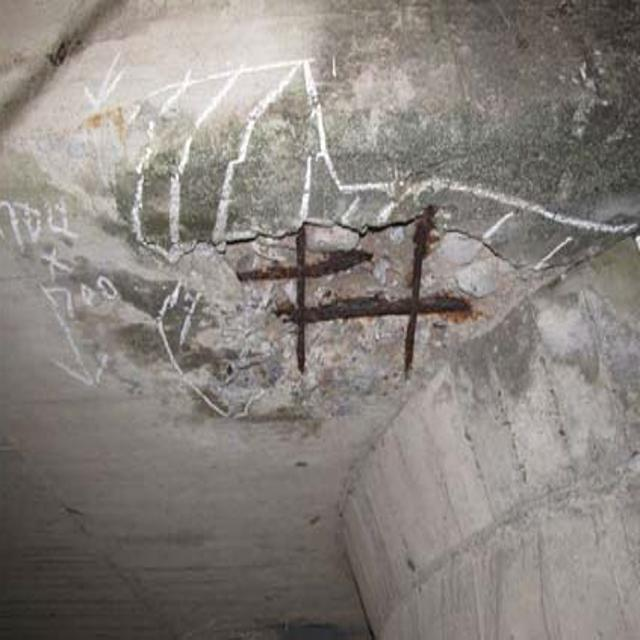spalling: (149, 157, 537, 407)
